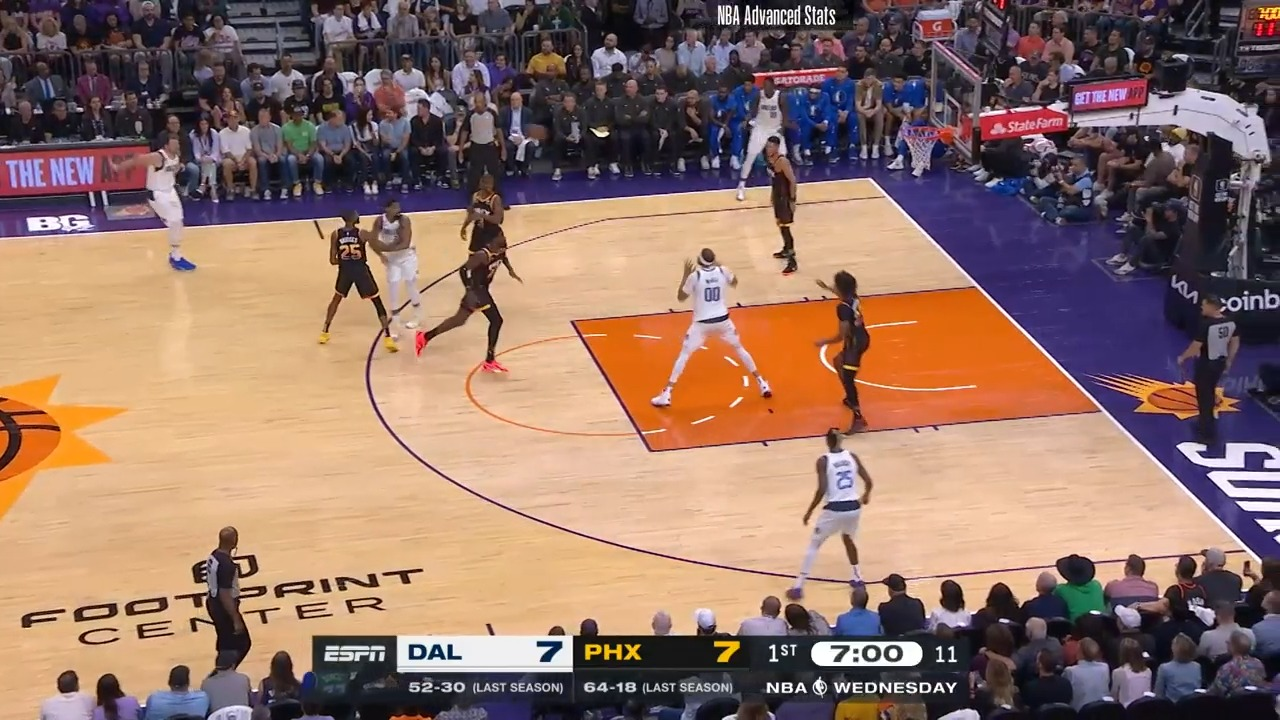net: (895, 117, 959, 173)
player: (651, 244, 776, 411), (789, 427, 879, 611), (415, 229, 522, 382), (318, 207, 405, 349), (366, 194, 433, 357), (126, 137, 198, 279), (814, 269, 873, 436), (732, 76, 792, 204), (760, 134, 803, 276), (460, 171, 505, 257)
referee: (184, 522, 259, 675), (1182, 295, 1241, 459)
